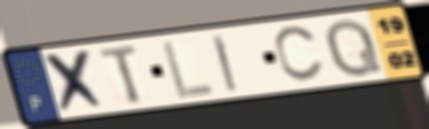C: (271, 23, 327, 85)
I: (209, 32, 240, 94)
L: (159, 37, 218, 101)
Q: (323, 16, 385, 80)
T: (97, 42, 147, 107)
X: (41, 46, 111, 116)
